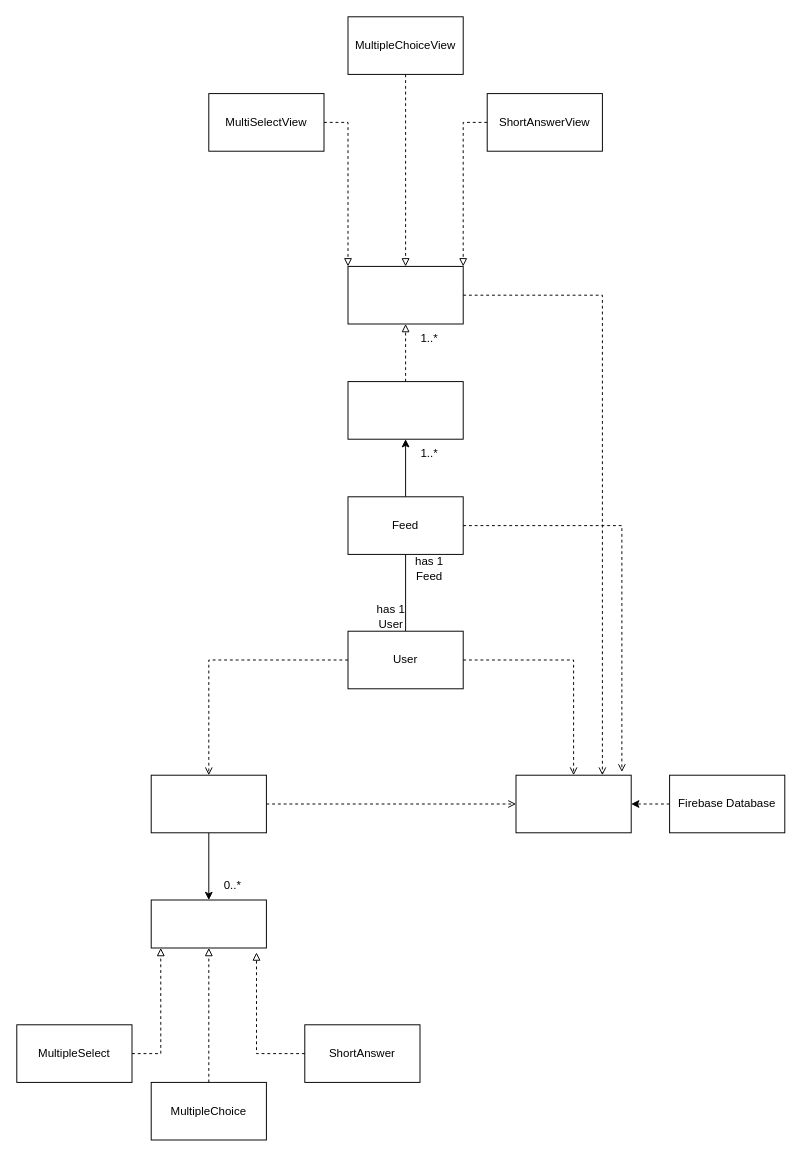
Some shapes in this 802 by 1157 pixel diagram are drawn without their labels. Each missing label, with the centre of its shape:
"<<interface>> Database Access" goes at (573,803).
"<<interface>> QuestionCreation" goes at (208,923).
"<<interface>> QuestionView" goes at (405,294).
"FormCreation" goes at (208,803).
"Survey" goes at (405,410).
